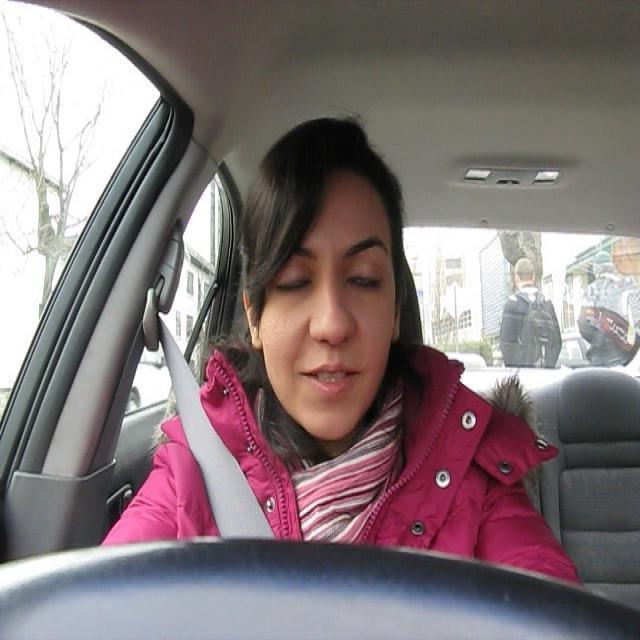close: (341, 236, 394, 297), (270, 246, 317, 298)
